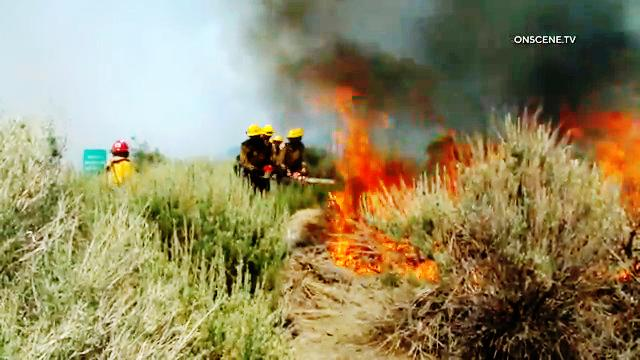fire: (325, 92, 439, 289), (561, 97, 640, 191)
smoke: (263, 2, 512, 99)
